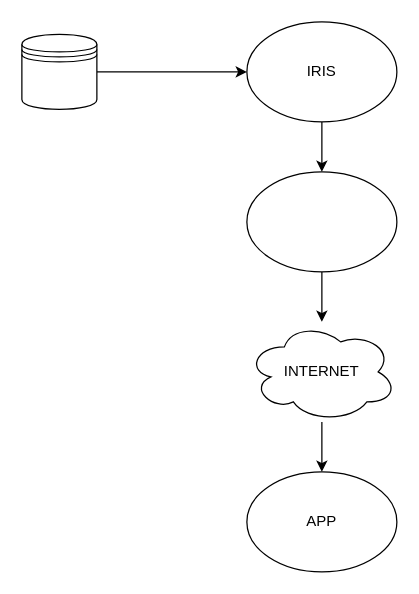
Some shapes in this 419 by 594 pixel diagram are drawn without their labels. Here are the shapes that lost their labels. From the top down, the centre of each, then its label:
At (x=59, y=71): "HIS".
At (x=321, y=221): "WEB".
